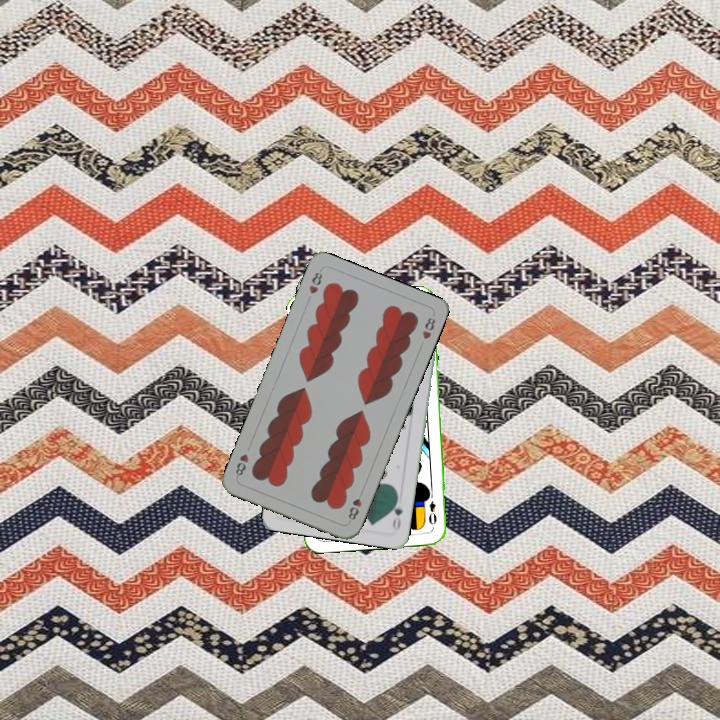EO: (423, 489, 439, 527)
GO: (388, 492, 405, 532)
H8: (344, 486, 366, 525), (305, 266, 325, 296)
